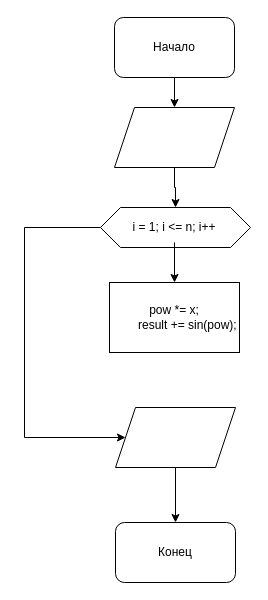
Image size: 268x600. Some labels were removed from this diagram. The centre of each missing label's shape, as x and y in pixels:
"result" goes at (x=175, y=437).
"x, n" goes at (x=174, y=137).
